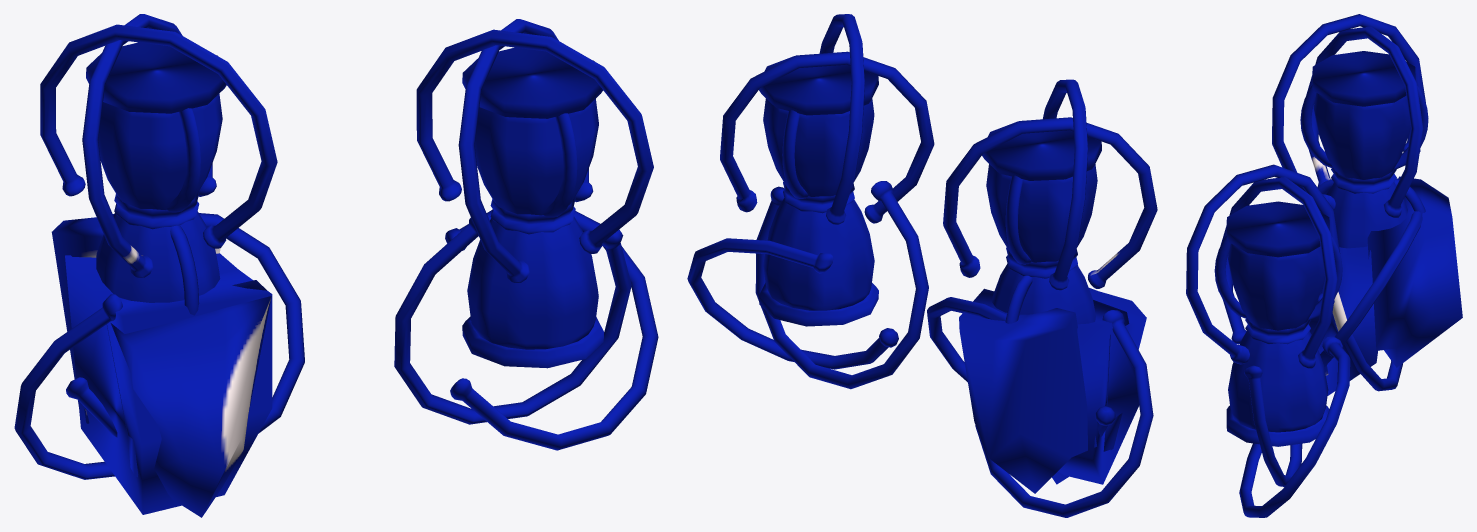
Rendered from clock.fbx.
The picture shows the model from 3 angles, left to right: view 1: azimuth 30°, elevation 25°; view 2: azimuth 150°, elevation 25°; view 3: azimuth 270°, elevation 25°; orthographic projection. The views are drawn at different scales.
Parts seen in each view (by area): view 1: sandclock_broken, sandclock_fixed; view 2: sandclock_broken, sandclock_fixed; view 3: sandclock_broken, sandclock_fixed.
Boxes of the visible parts, left/top/right/bottom form: sandclock_broken: left=14, top=14, right=304, bottom=517; sandclock_fixed: left=394, top=19, right=658, bottom=450; sandclock_broken: left=927, top=79, right=1157, bottom=517; sandclock_fixed: left=687, top=14, right=934, bottom=389; sandclock_broken: left=1272, top=14, right=1462, bottom=395; sandclock_fixed: left=1186, top=164, right=1350, bottom=517.
Size of the model in its own units: 329 by 262 by 177.
Materials: 1 (1 with a texture image).
